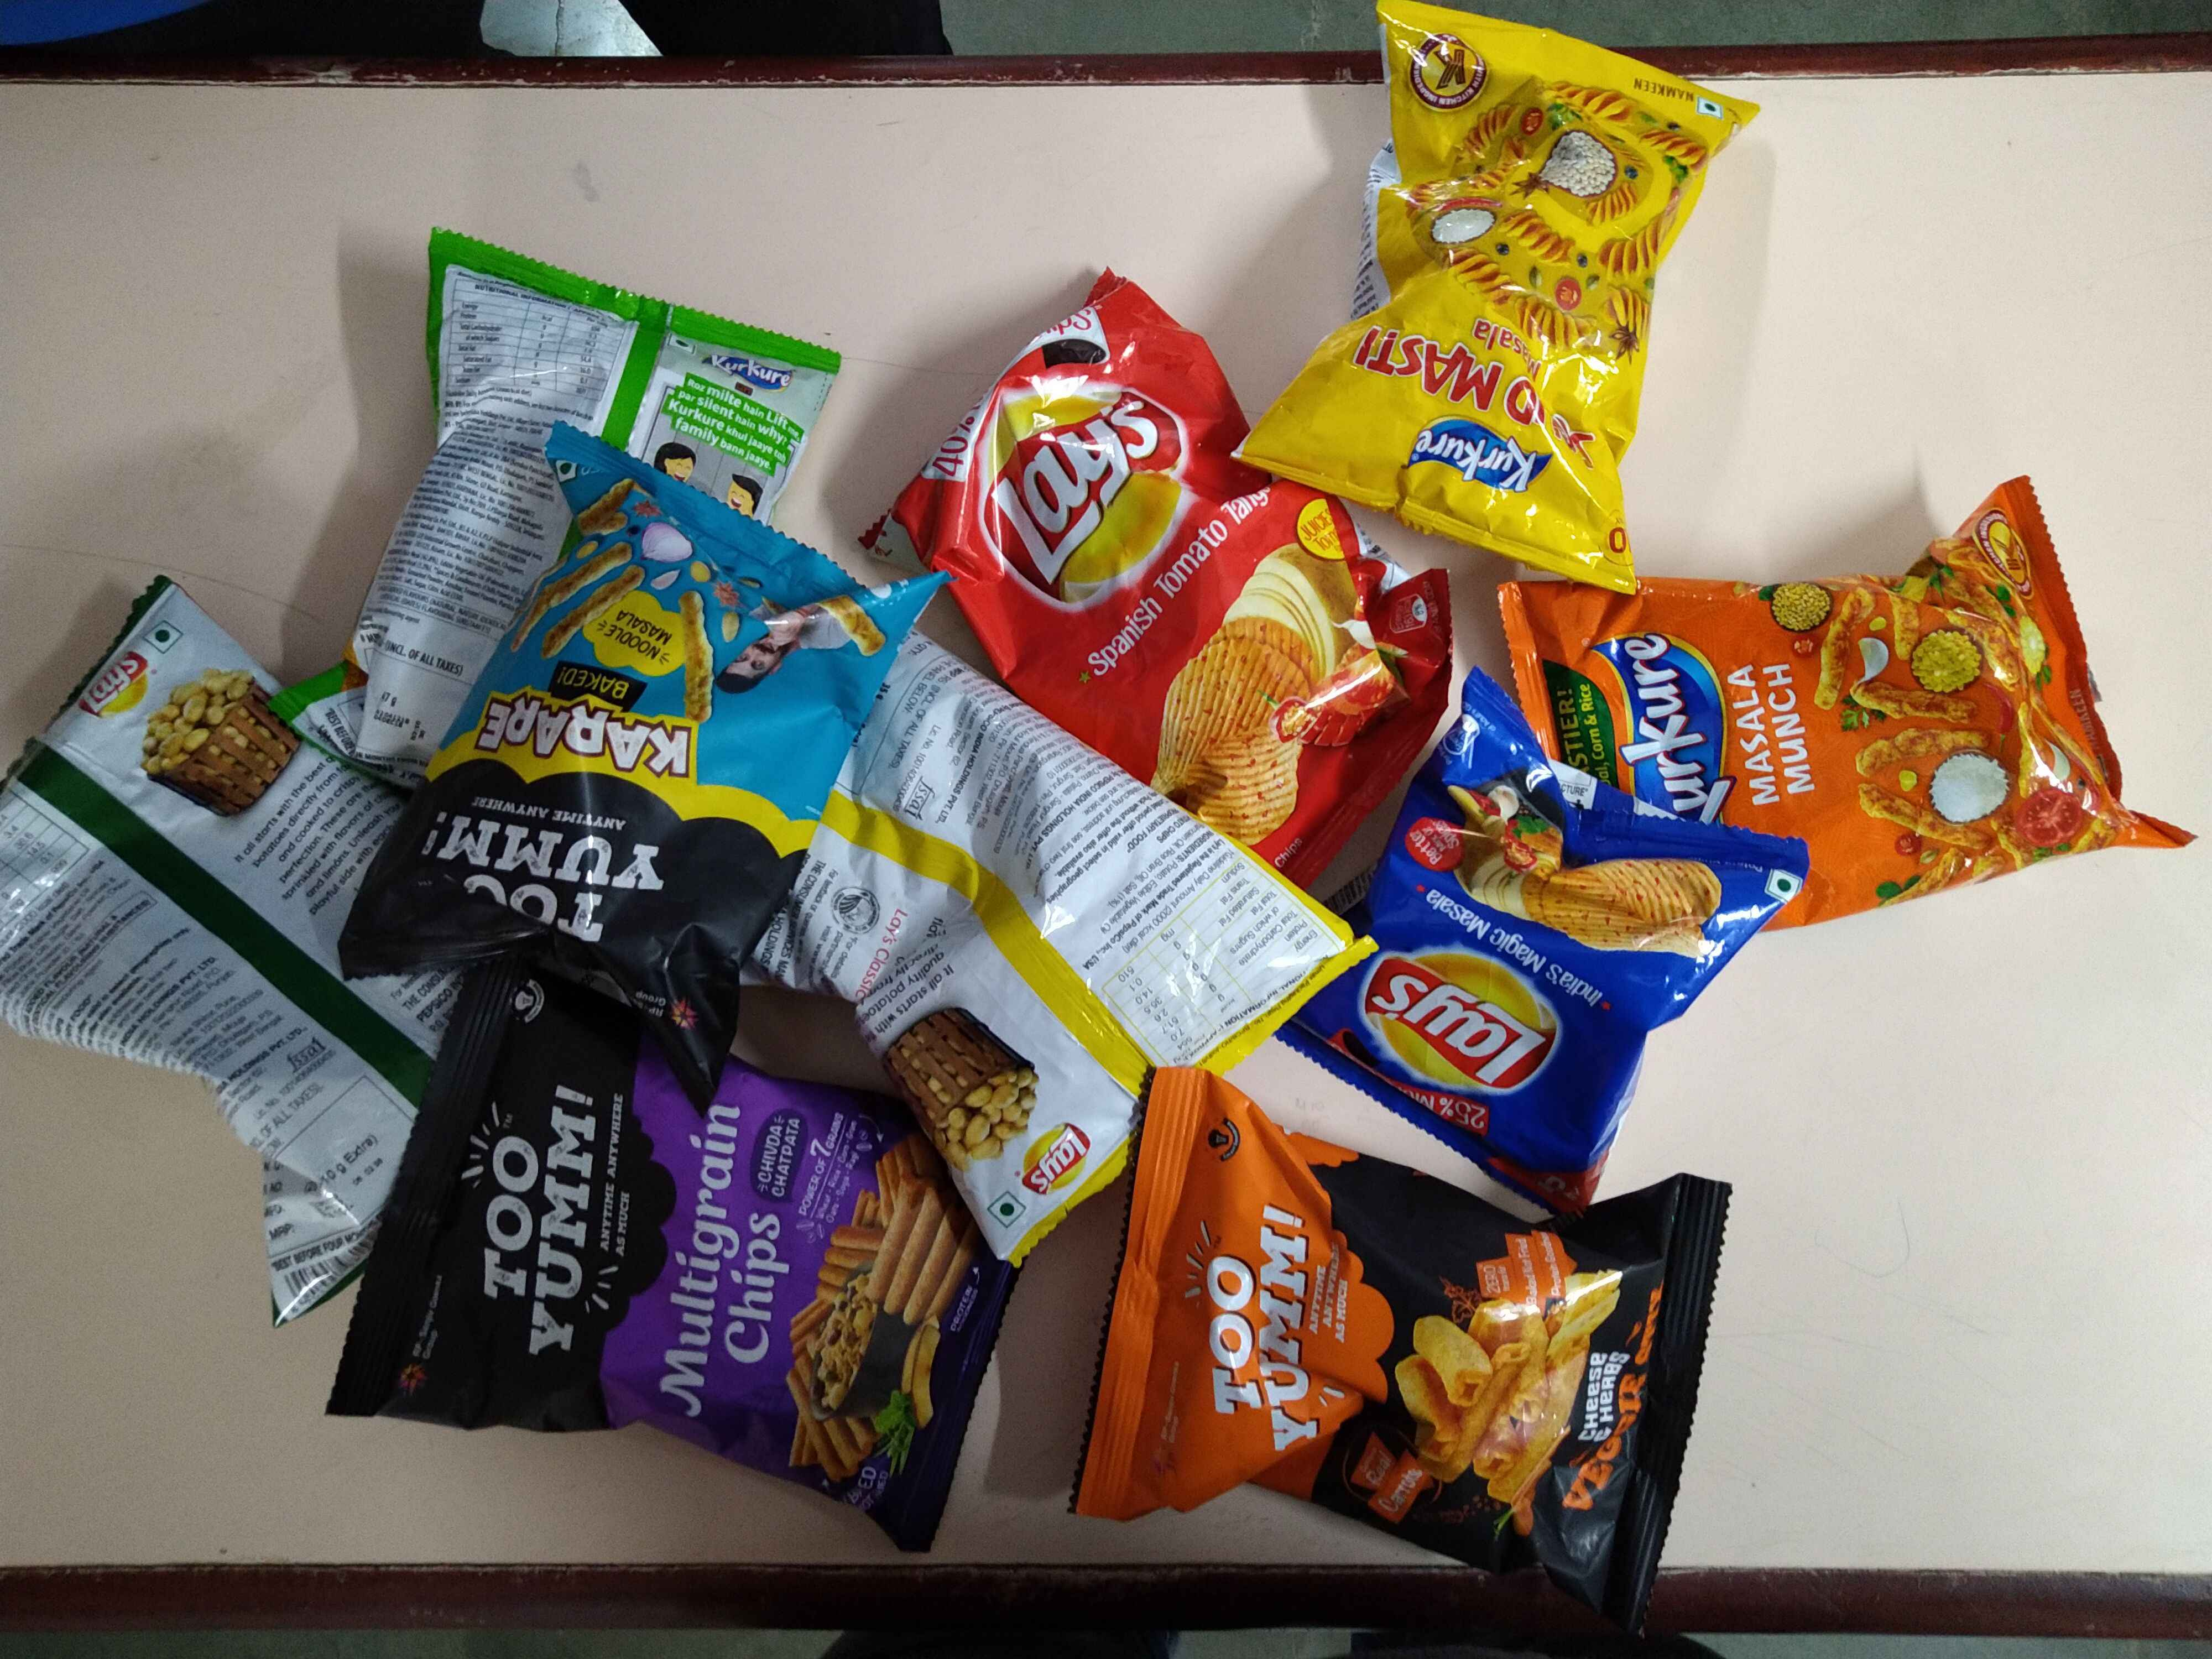Lays: (984, 362, 1197, 638), (1360, 934, 1576, 1110), (73, 640, 148, 737), (1012, 1124, 1101, 1201)
kurkure: (1601, 622, 1743, 835), (1385, 413, 1561, 511), (698, 340, 805, 401)
tooyumm: (465, 1049, 631, 1368), (1198, 1168, 1338, 1459), (421, 798, 665, 957)
